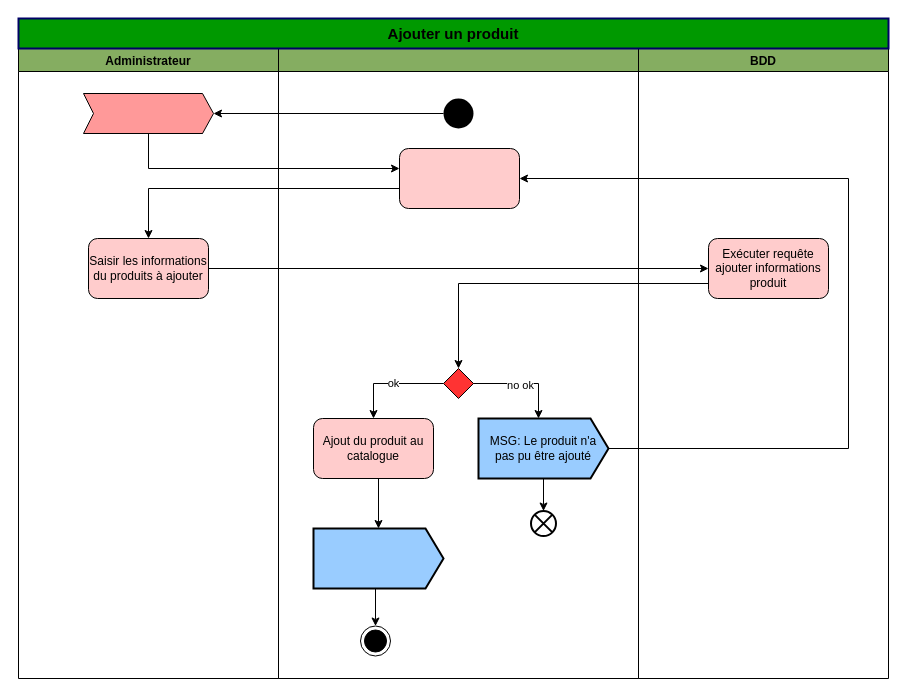
Some shapes in this 906 by 696 pixel diagram are drawn without their labels. The box of each missing label's shape, as (x1, y1, x2, y2) in pixels:
Cliquer sur Ajouter un produit: (82, 92, 214, 134)
Demander informations du produit à ajouter: (398, 148, 520, 208)
Le produit à été ajouté: (312, 527, 444, 589)
SI: (278, 48, 638, 678)
